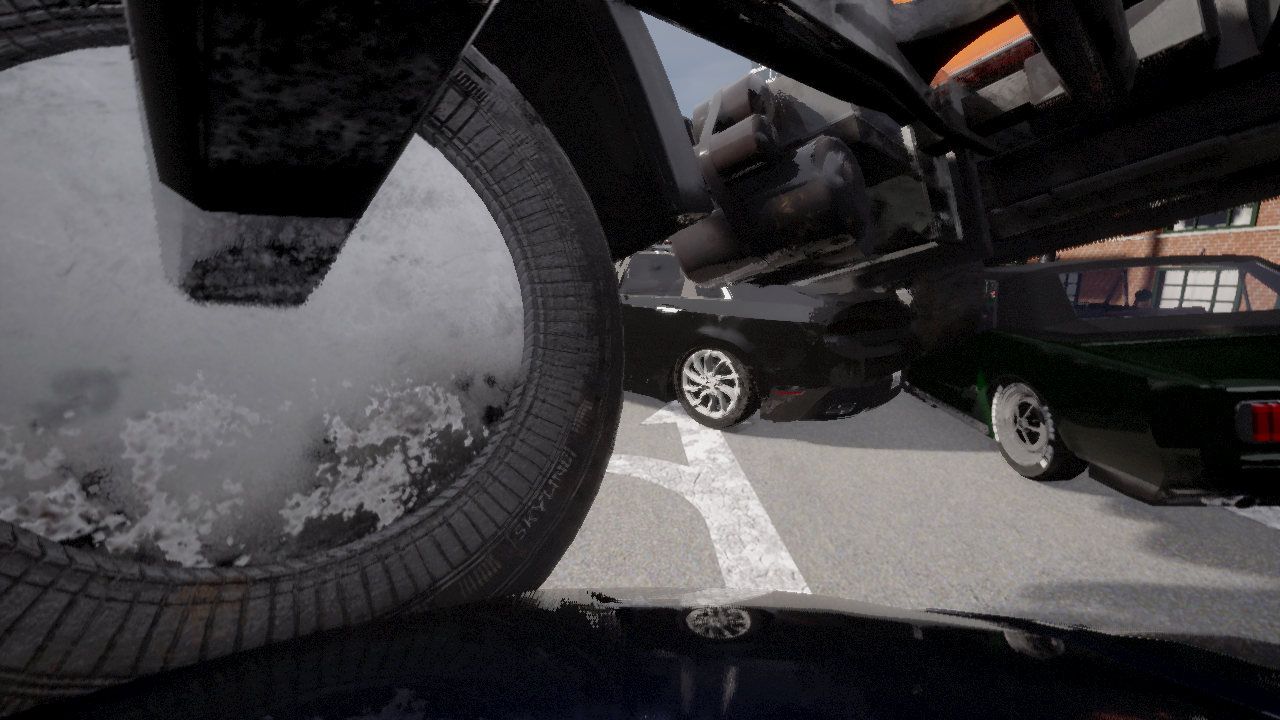cyclist: (0, 588, 1279, 719), (902, 254, 1279, 508), (613, 242, 910, 429), (658, 236, 670, 242)
